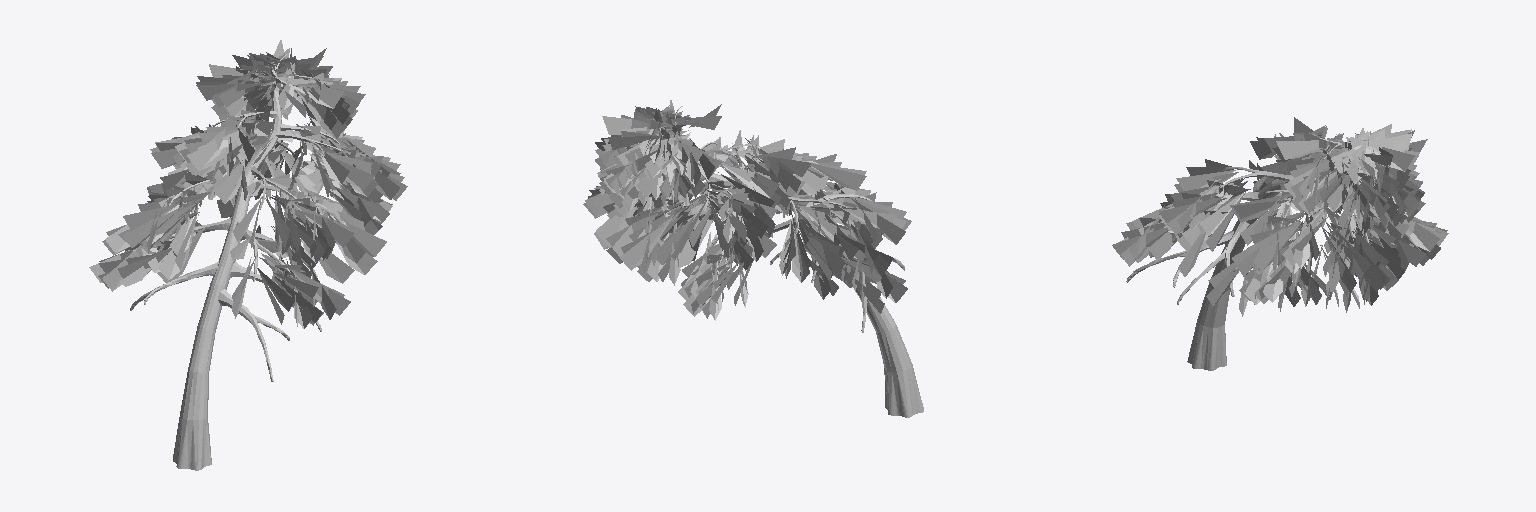
The model's file is GiantPine_5.obj.
The picture shows the model from 3 angles: view 1: azimuth 30°, elevation 25°; view 2: azimuth 150°, elevation 25°; view 3: azimuth 270°, elevation 25°; orthographic projection.
Visible parts, largest first — view 1: GiantPine_5; view 2: GiantPine_5; view 3: GiantPine_5.
Boxes of the visible parts, <box> form: GiantPine_5: <box>89,40,407,470</box>; GiantPine_5: <box>583,100,923,417</box>; GiantPine_5: <box>1112,117,1448,370</box>.
Bounding box in the file's own units: 15.89 × 15.94 × 15.67.